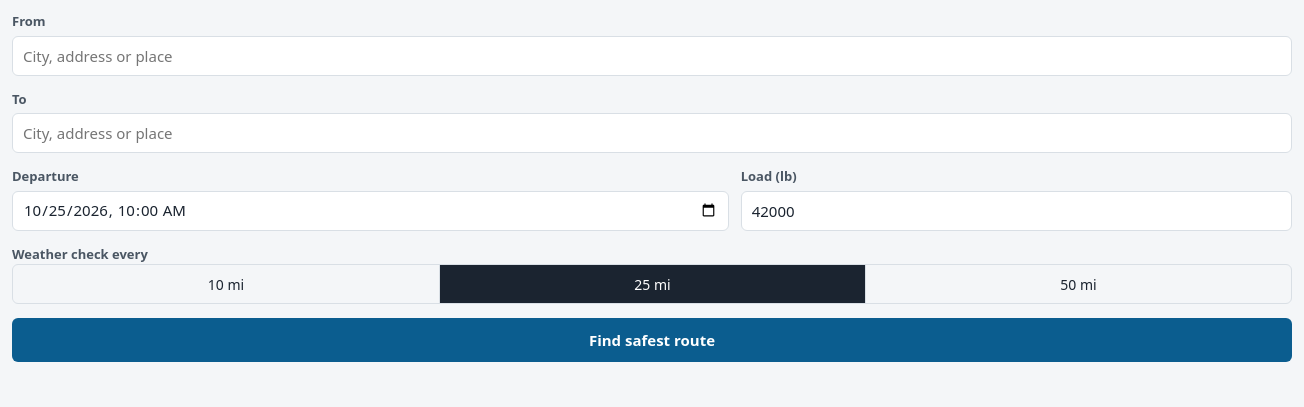
Test: TripForm › rejects an out-of-range load
In the dropdown labelled "From": (652, 56) [12,36,1292,76], type "chi"
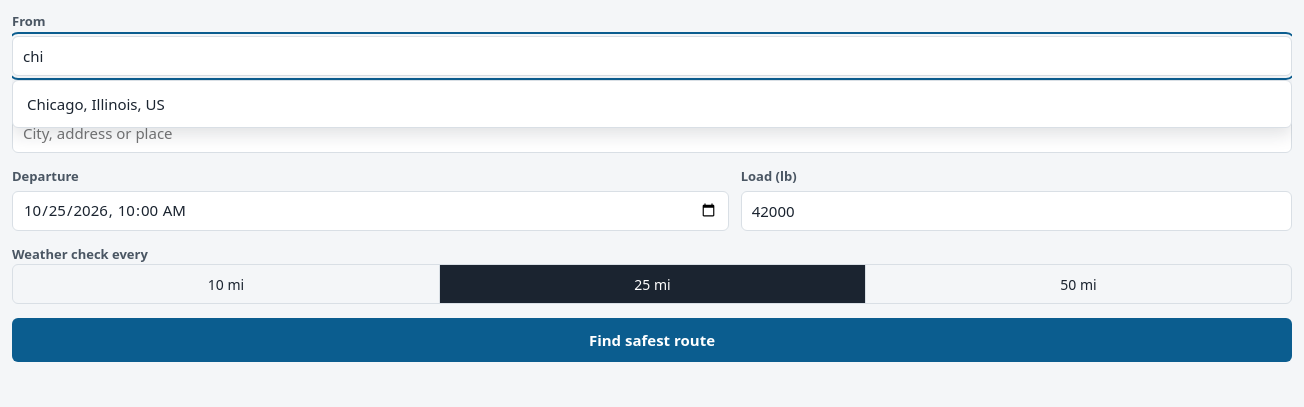
Click the option "Chicago, Illinois, US": (96, 104) [27,94,165,114]
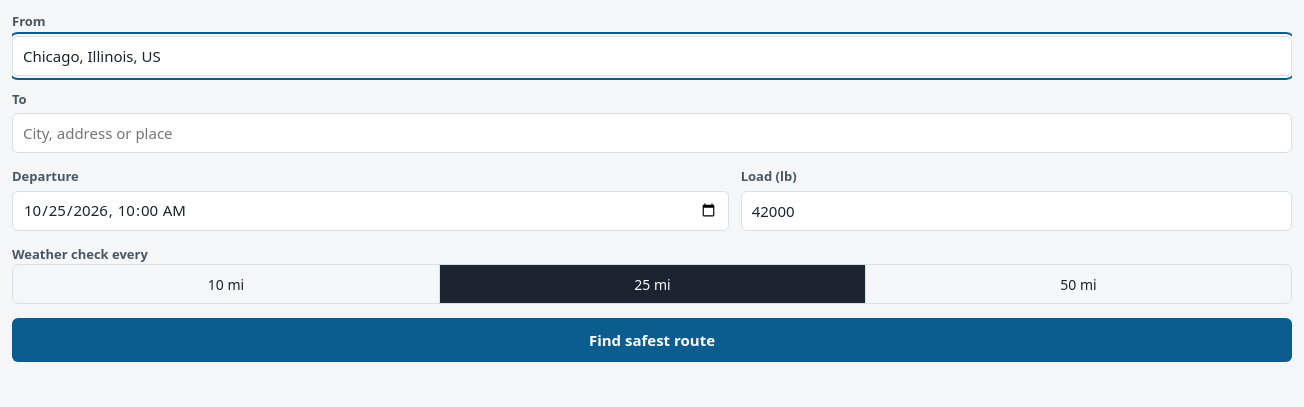
In the dropdown labelled "To": (652, 133) [12,113,1292,153], type "dal"
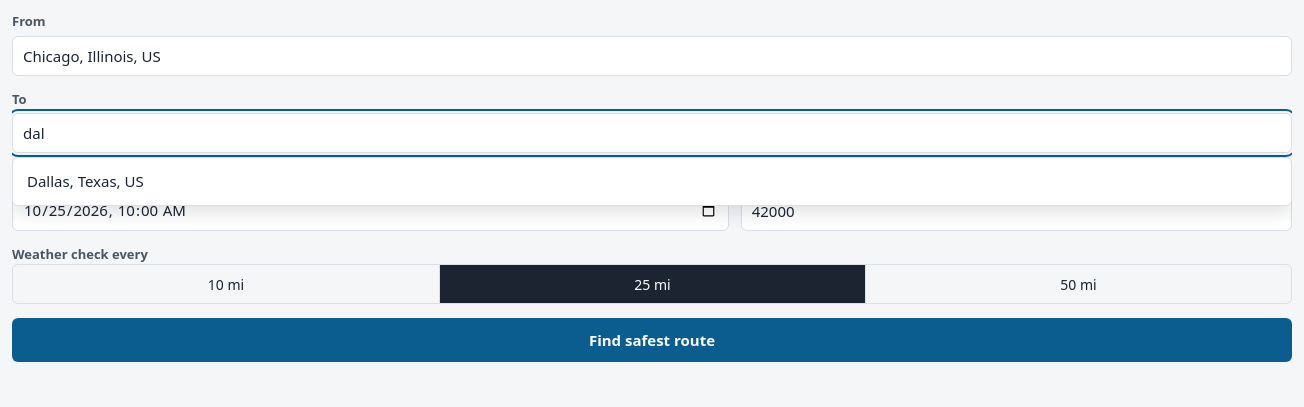
Click the option "Dallas, Texas, US": (85, 181) [27,171,144,191]
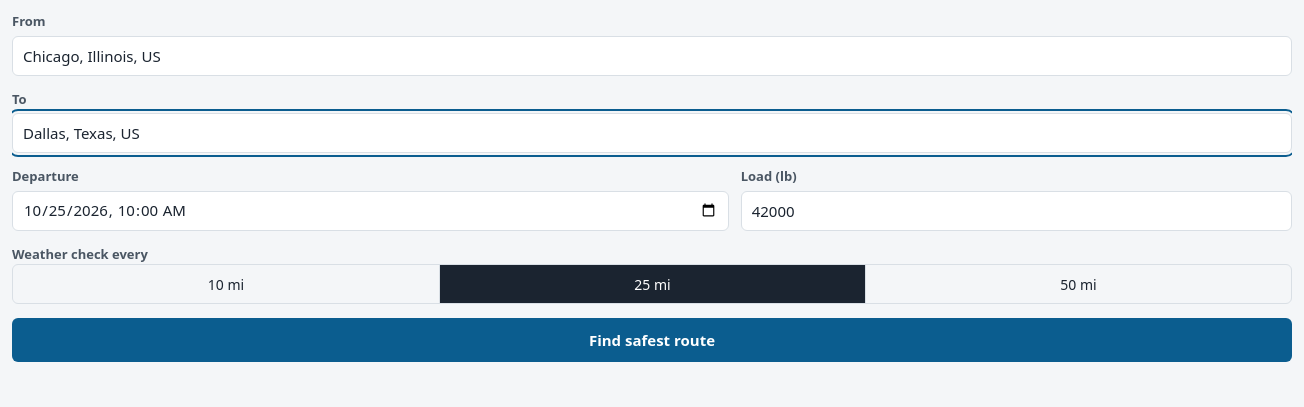
Replace the text in the number field labelled "Load (lb)" with "999999": (1016, 210) [741,190,1292,230]
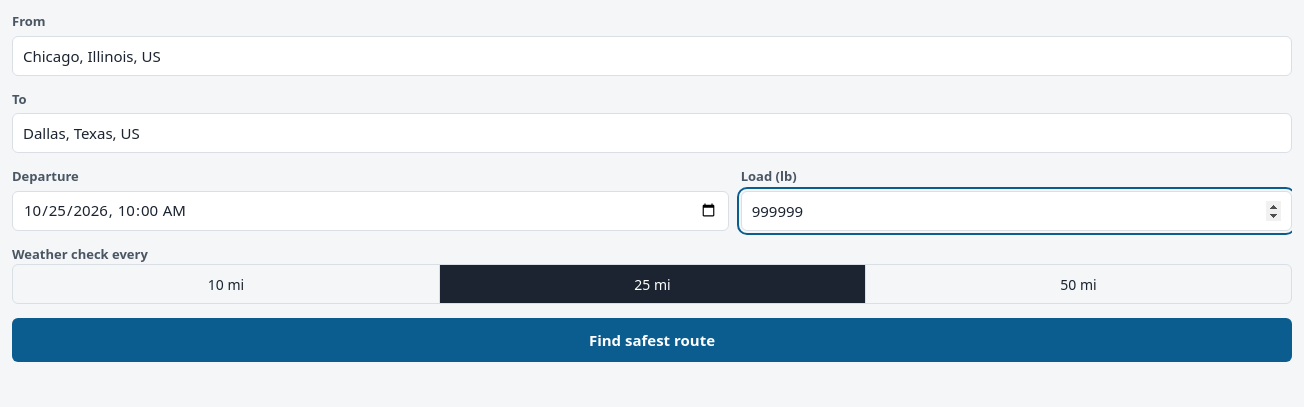
Click the button "Find safest route": (652, 340) [12,318,1292,362]
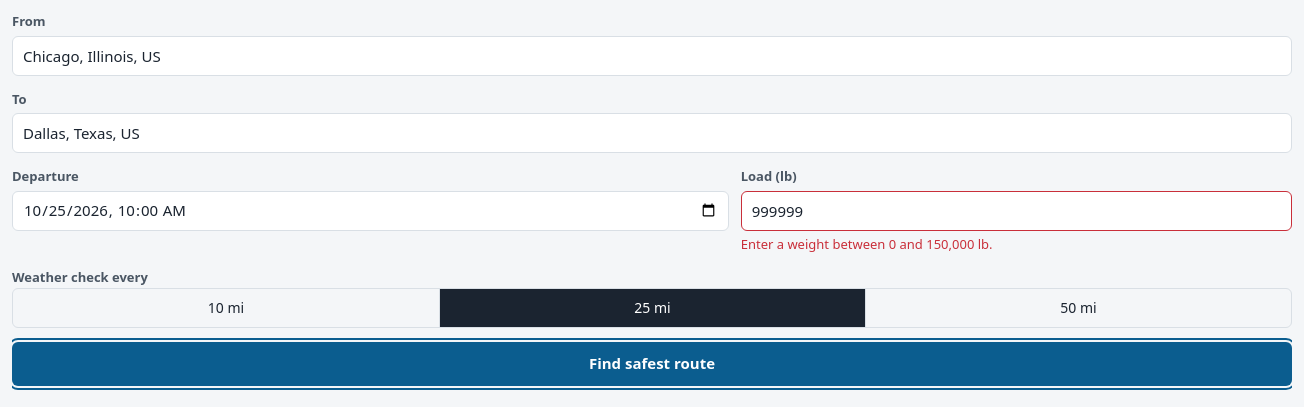
Expected: the text "Enter a weight between 0 and 150,000 lb." is shown, [741,234,993,252]
